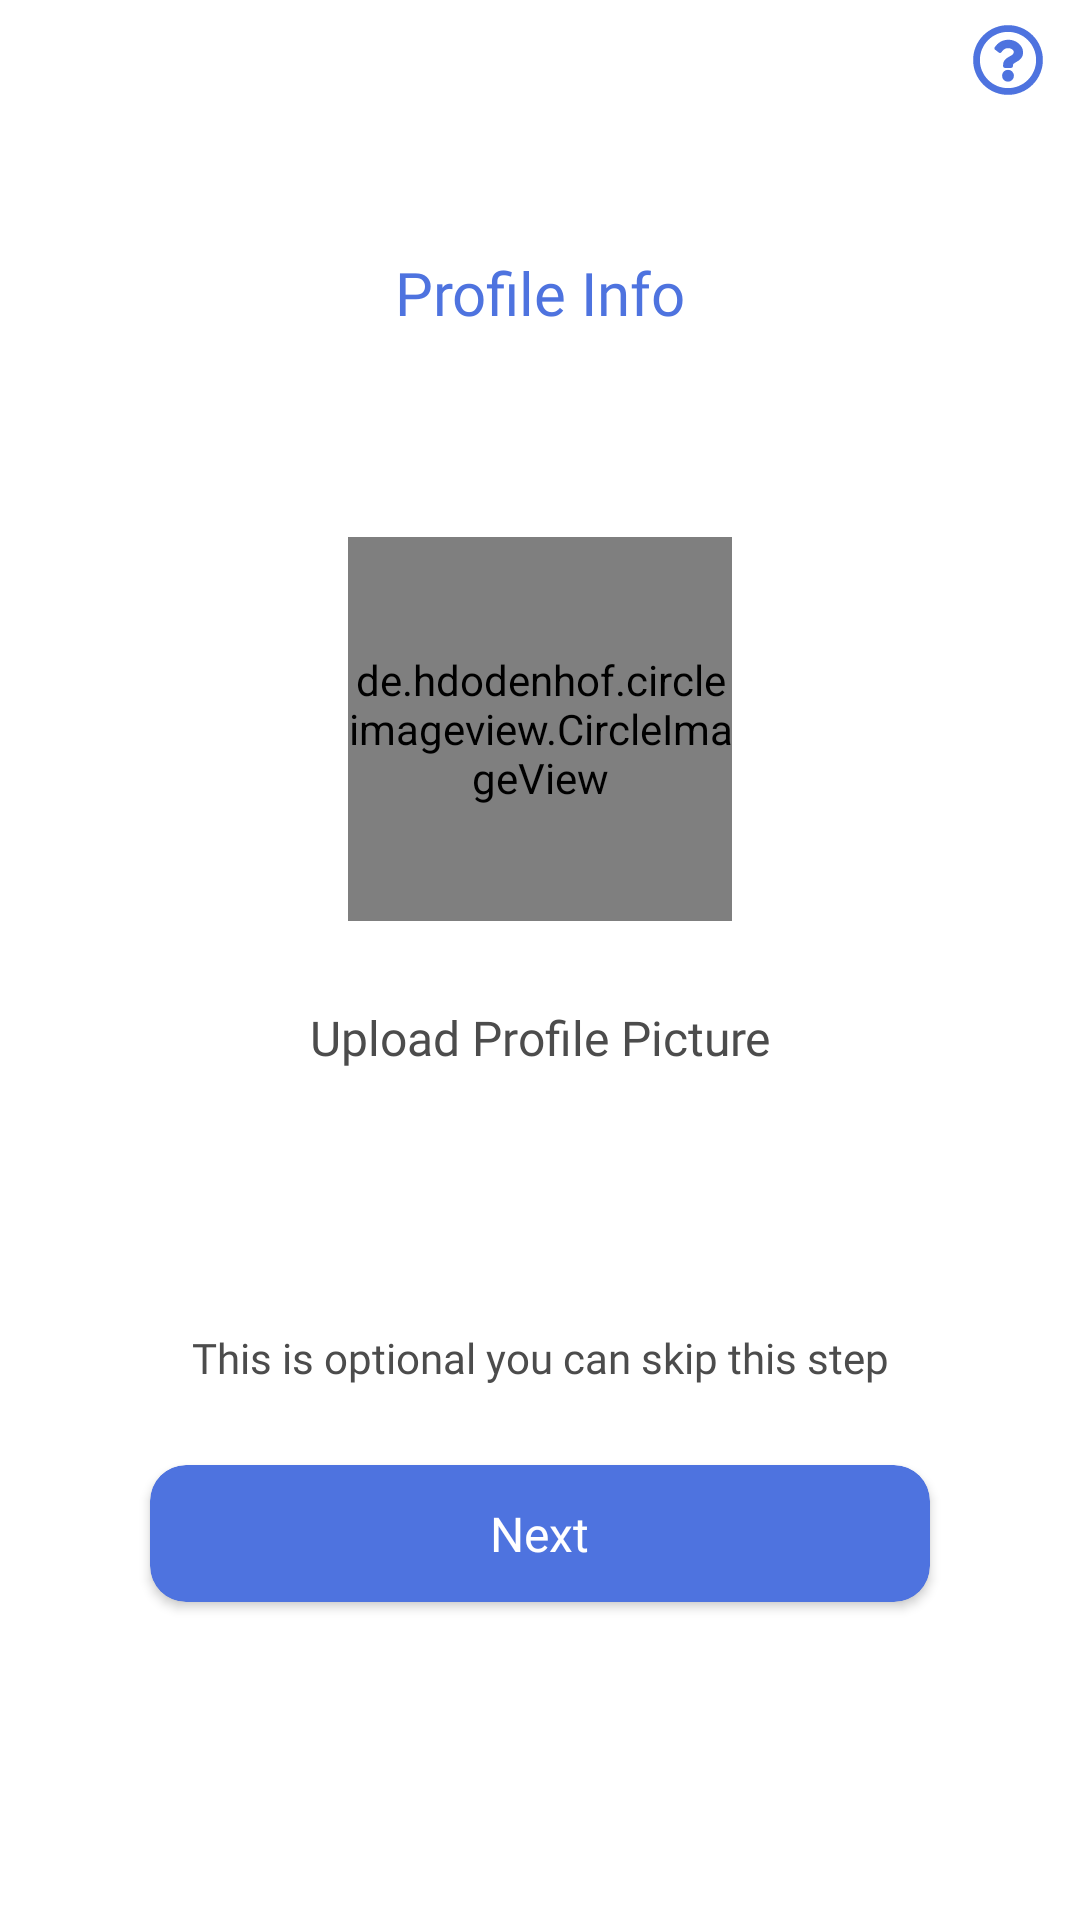

Icon bounding boxes for this 1080 × 1920 phone screenshot, format (x1, y1, x2, y2):
questionmark: (973, 25, 1043, 95)
